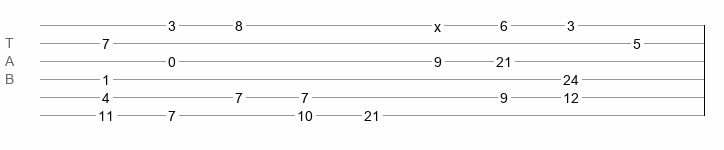0: (168, 54, 176, 64)
1: (102, 72, 110, 82)
10: (297, 108, 313, 118)
11: (98, 108, 114, 118)
12: (563, 90, 579, 100)
21: (364, 108, 380, 118), (496, 54, 512, 64)
24: (563, 72, 579, 82)
3: (168, 18, 176, 28), (567, 18, 575, 28)
4: (102, 90, 110, 100)
5: (633, 36, 641, 46)
6: (500, 18, 508, 28)
7: (102, 36, 110, 46), (168, 108, 176, 118), (235, 90, 243, 100), (301, 90, 309, 100)
8: (235, 18, 243, 28)
9: (434, 54, 442, 64), (500, 90, 508, 100)
x: (434, 19, 441, 27)
